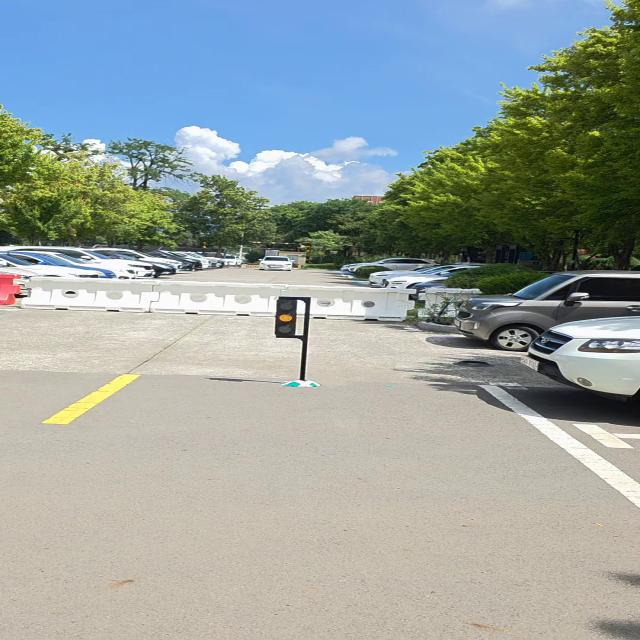yellow: (275, 299, 299, 337)
